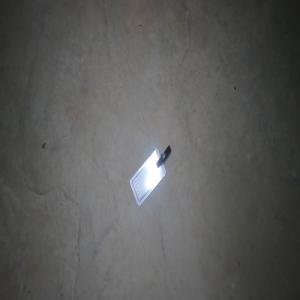LuggageTag: (128, 143, 171, 207)
